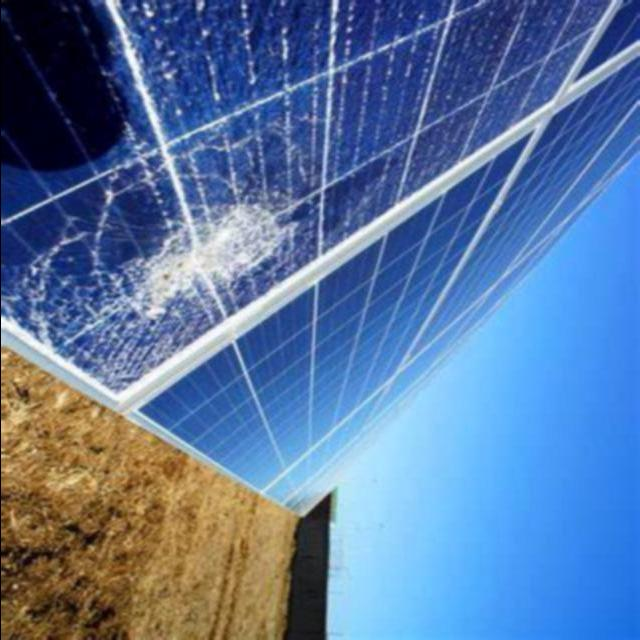cracked: (0, 1, 602, 395)
